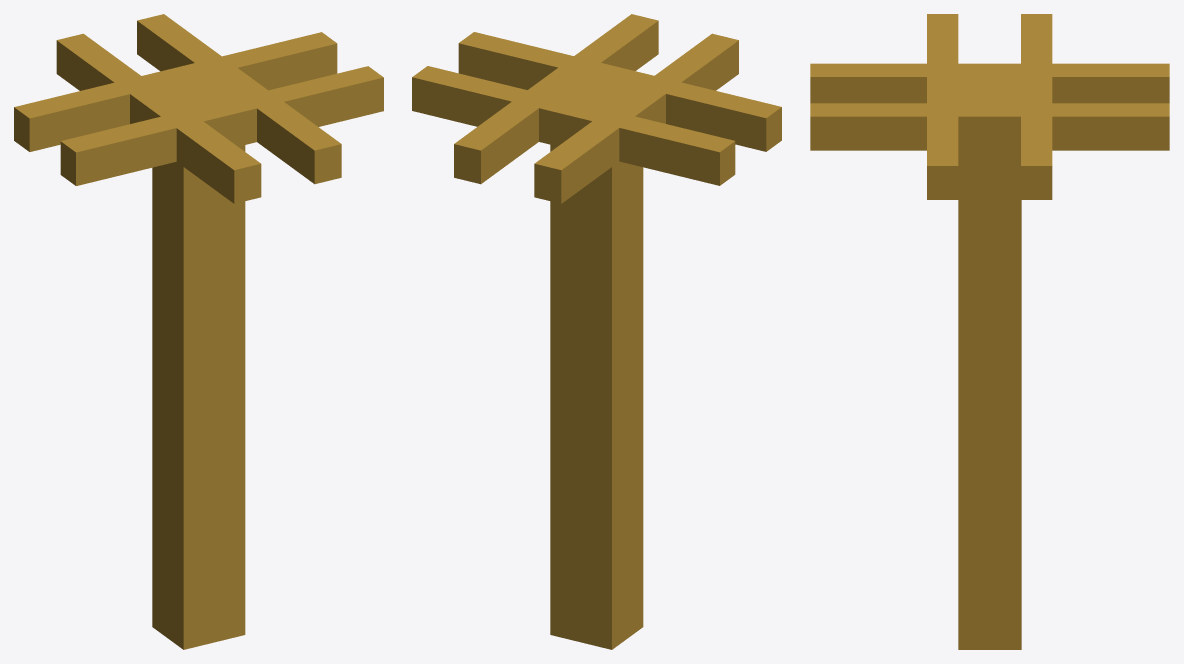
The model's file is left_top_bottom_right.glb.
3 views of the same model, side by side, from view 1: azimuth 30°, elevation 25°; view 2: azimuth 150°, elevation 25°; view 3: azimuth 270°, elevation 25° (orthographic).
Visible parts, largest first — view 1: Maxis-3d2-mesh-54; view 2: Maxis-3d2-mesh-54; view 3: Maxis-3d2-mesh-54.
Boxes of the visible parts, x1,y1,x2,y2 form: Maxis-3d2-mesh-54: (14,14,383,649); Maxis-3d2-mesh-54: (412,14,781,649); Maxis-3d2-mesh-54: (810,14,1169,649).
Size of the model in its own units: 4.78 by 8 by 4.78.
